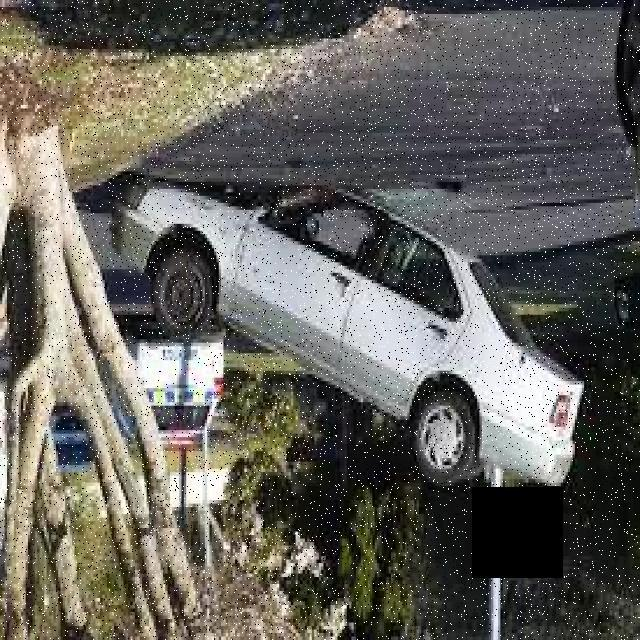severe: (105, 166, 589, 509)
